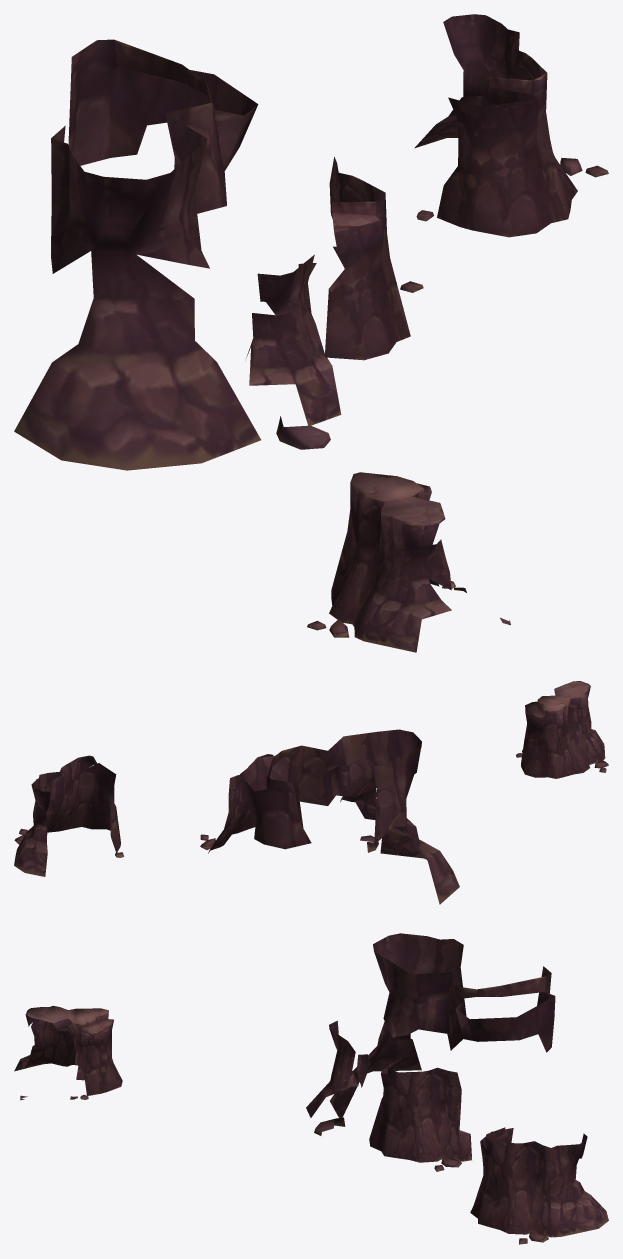
The model's file is area15_shiqiang_03.FBX.
3 views of the same model, one above another, from view 1: azimuth 30°, elevation 25°; view 2: azimuth 150°, elevation 25°; view 3: azimuth 270°, elevation 25° (orthographic). The views are drawn at different scales.
Parts seen in each view (by area): view 1: area15_shiqiang_03; view 2: area15_shiqiang_03; view 3: area15_shiqiang_03.
Boxes of the visible parts, <box> form: area15_shiqiang_03: <box>14,14,608,652</box>; area15_shiqiang_03: <box>14,681,608,904</box>; area15_shiqiang_03: <box>14,933,608,1244</box>.
Bounding box in the file's own units: 4751 × 1762 × 6167.
